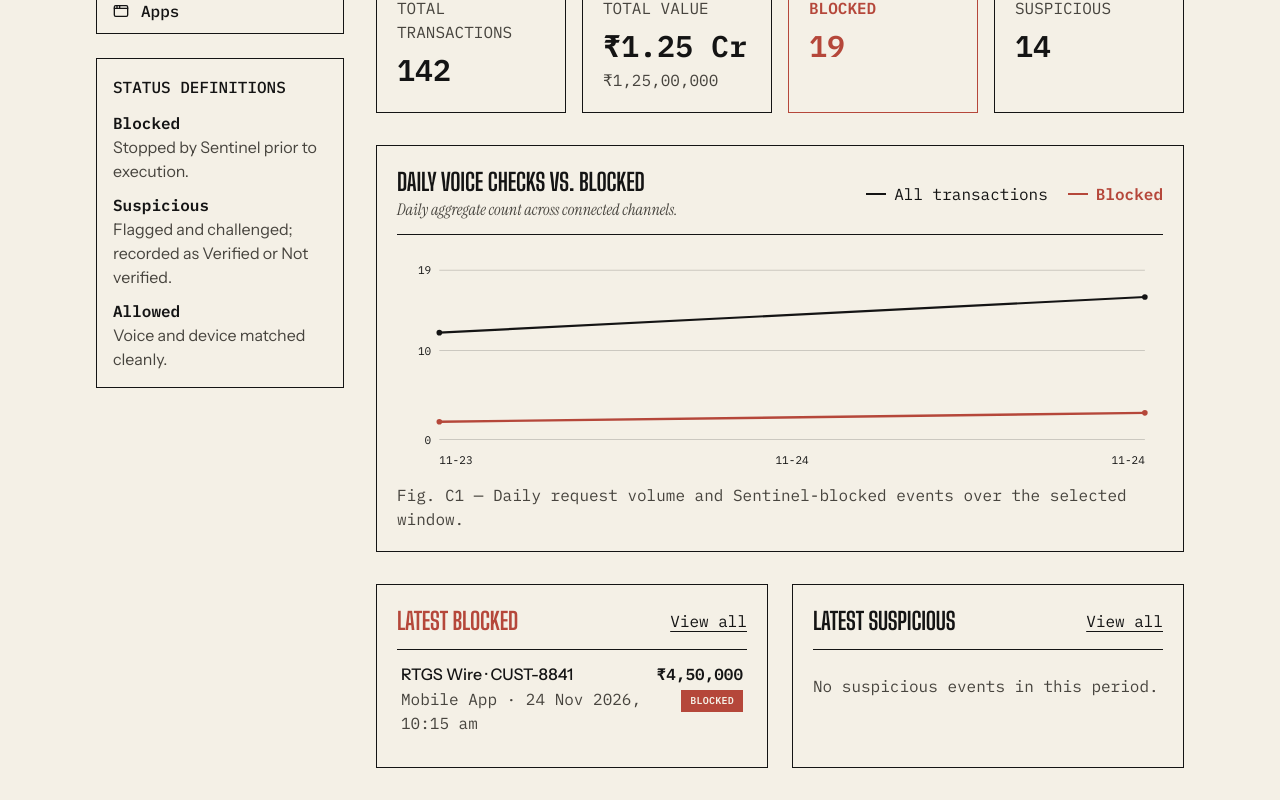
Scenario: ClientDashboardPage › renders client console overview in INR and lets user inspect a transaction detail panel
(page scrolled)
Expected: the text "₹1.25 Cr" is shown, [603,28,751,64]
Click the text "RTGS Wire · CUST-8841". click: click(487, 674)
box: [401,664,573,684]
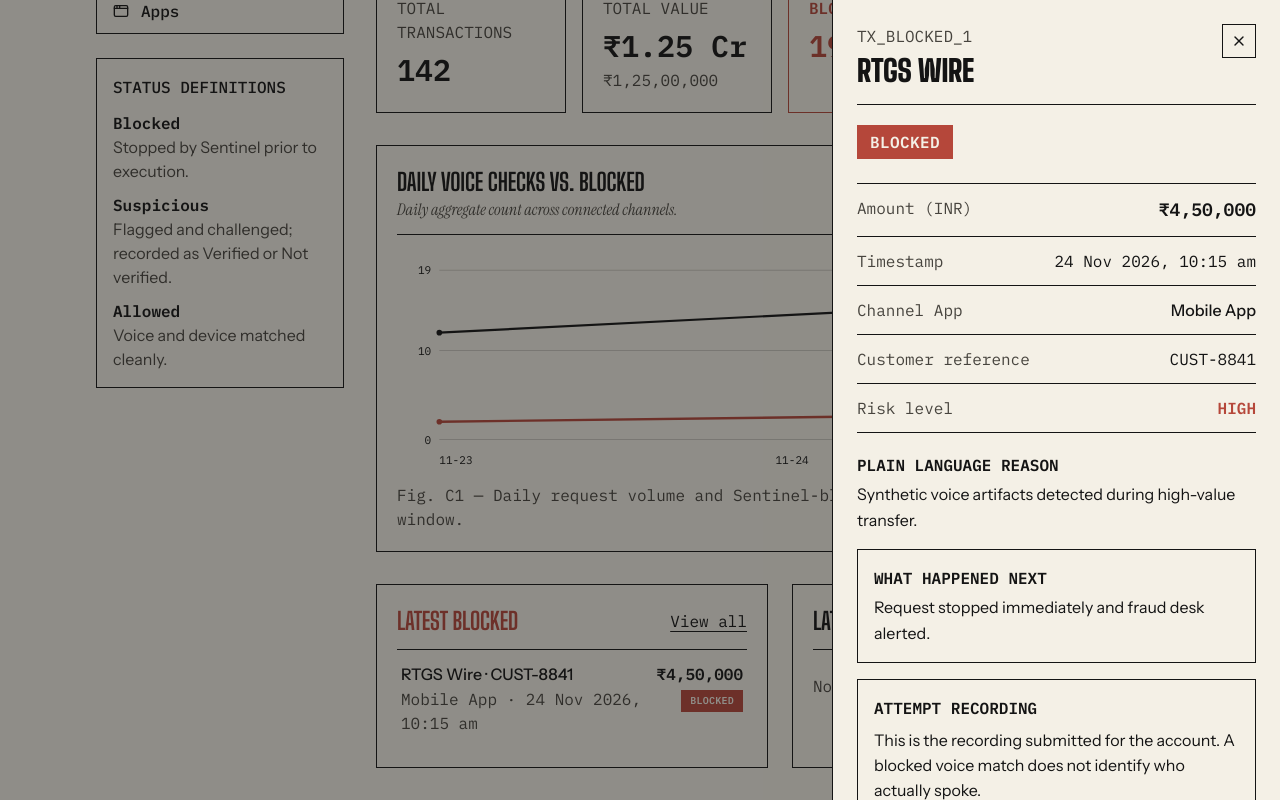
Result: the dialog named "Transaction detail" is shown at [832,0,1279,799]
Result: the heading "What happened next" is shown at [874,568,1047,588]
Result: the text "Request stopped immediately and fraud desk alerted." is shown at [874,594,1239,646]
